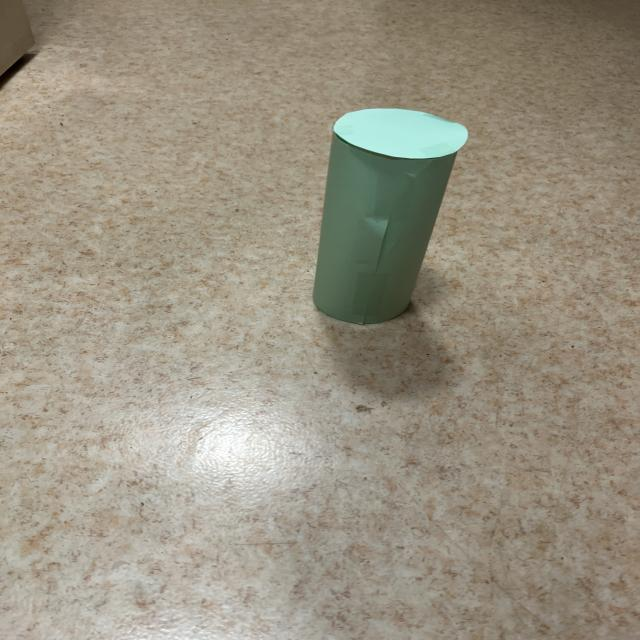meta: (313, 108, 468, 325)
